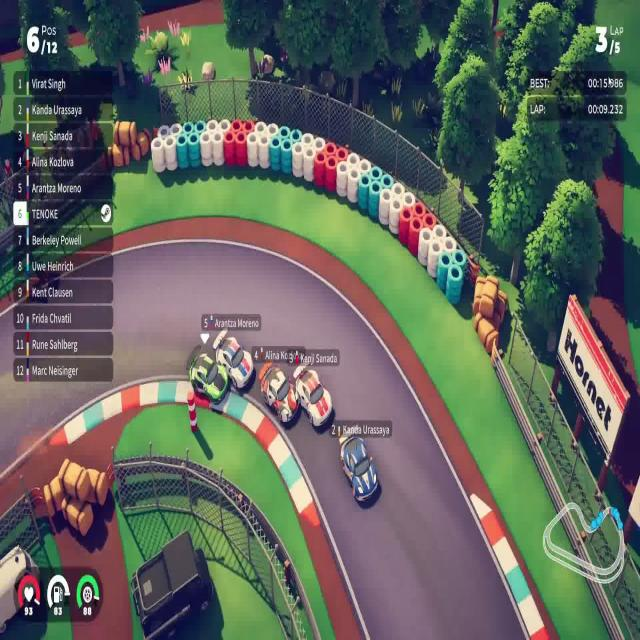car: (338, 432, 379, 504), (258, 359, 300, 425), (292, 364, 333, 428), (213, 331, 254, 391), (188, 348, 229, 405)
